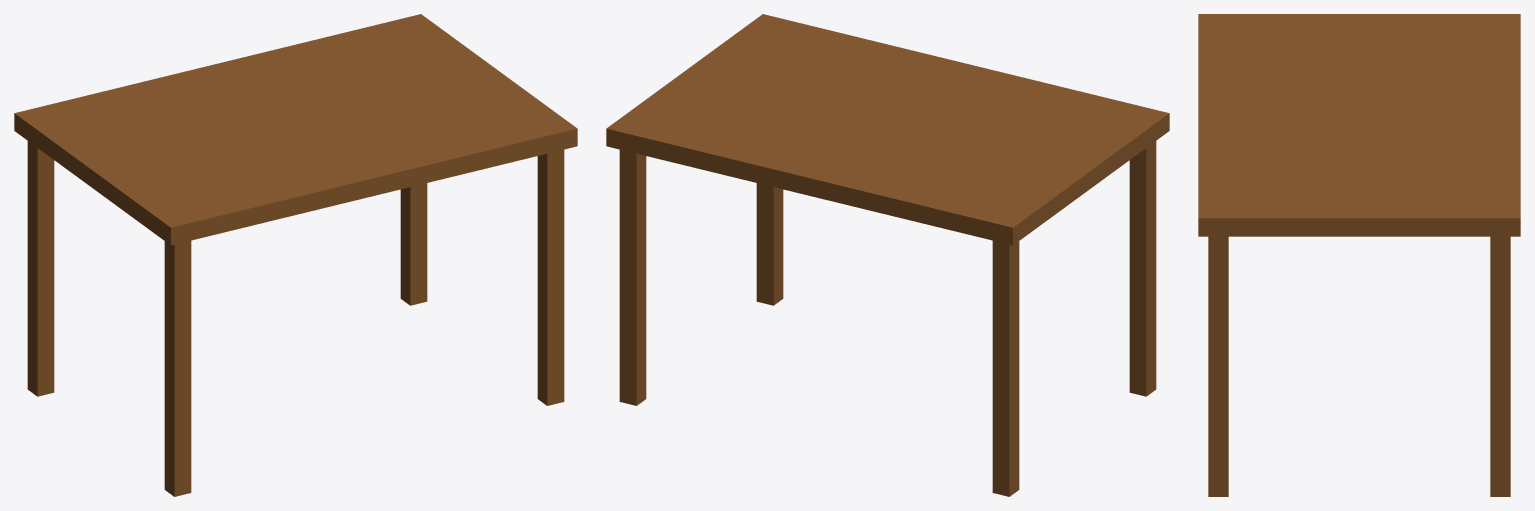
File: table.glb
3 renders of one model, left to right at view 1: azimuth 30°, elevation 25°; view 2: azimuth 150°, elevation 25°; view 3: azimuth 270°, elevation 25°, orthographic. The views are drawn at different scales.
Bounding box in the file's own units: 1.2 × 0.775 × 0.8.
